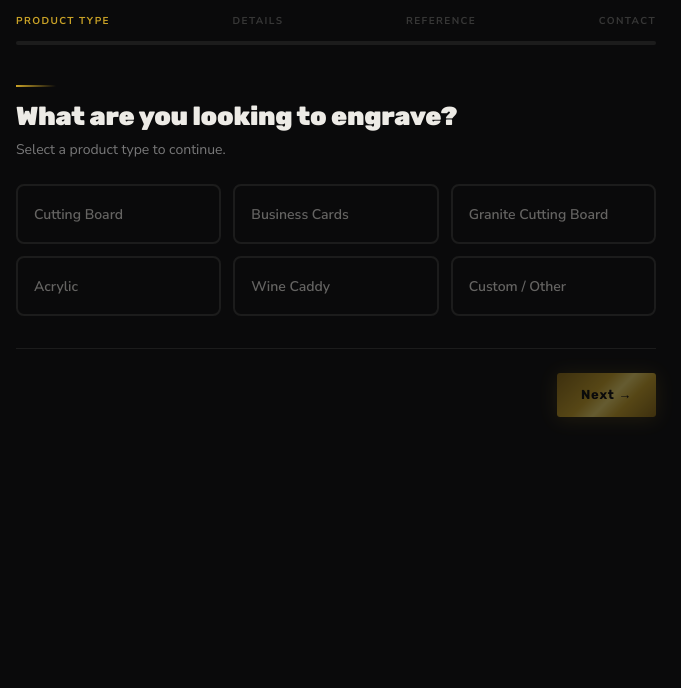
Test: OrderWizard › Back button returns to step 1 from step 2
Step 1. Click the button "Cutting Board" → click(119, 214), box left=16, top=184, right=221, bottom=244
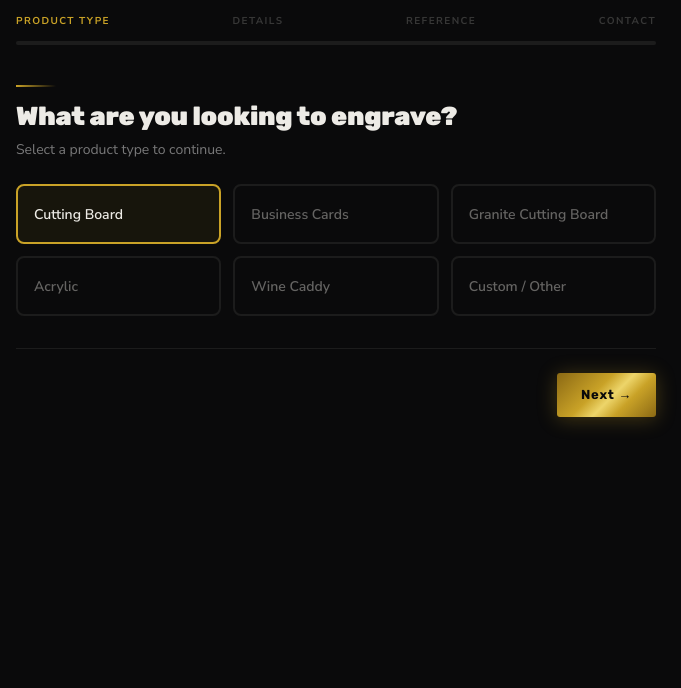
Step 2. Click the button "Next →" → click(606, 395), box left=557, top=373, right=656, bottom=416
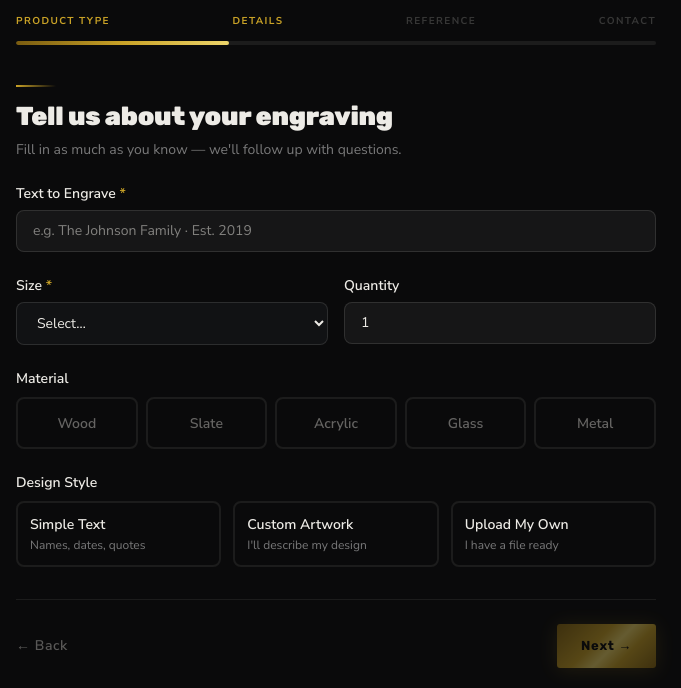
Step 3. Click the button "← Back" → click(42, 646), box left=16, top=636, right=68, bottom=656
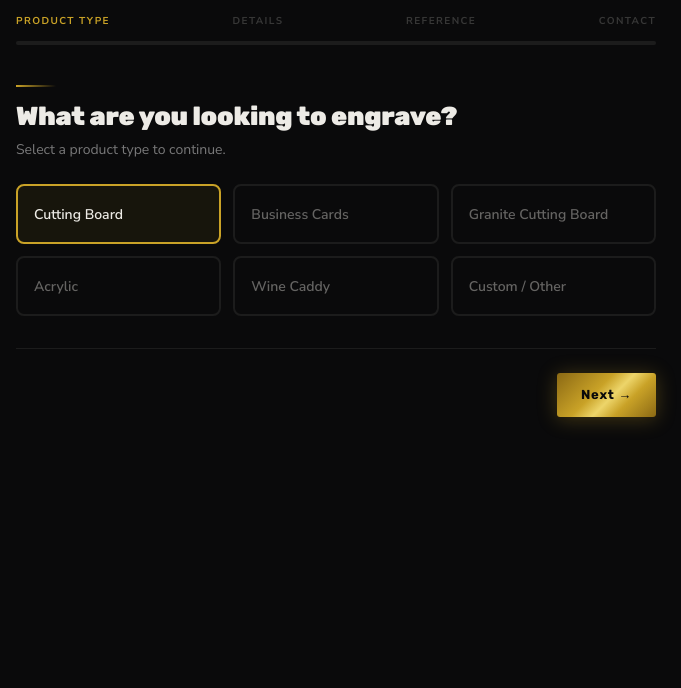
Check: the heading "What are you looking to engrave?" is shown, box left=16, top=101, right=457, bottom=132
